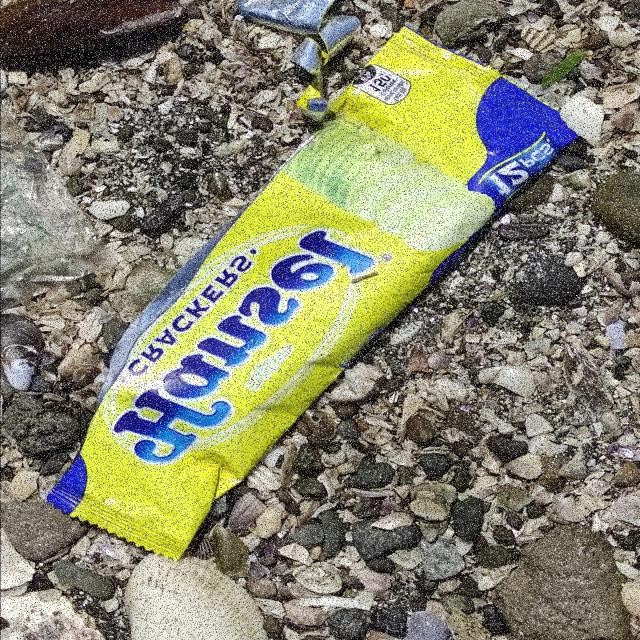plastic_waste: (46, 26, 580, 565)
